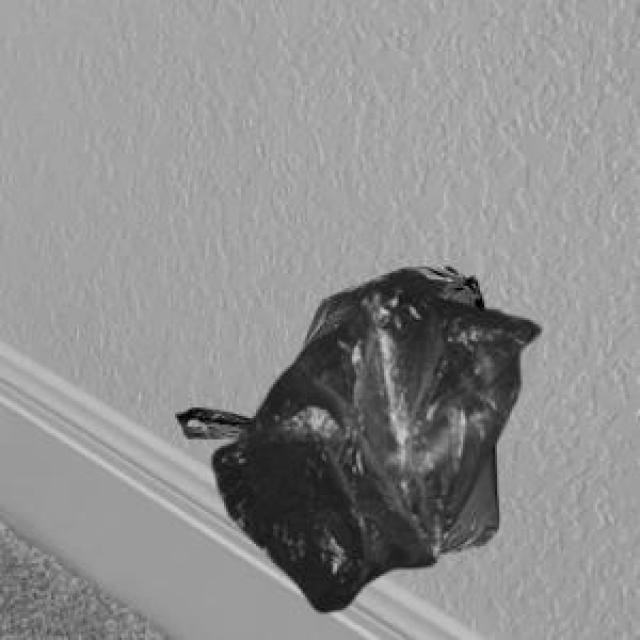miscellaneous trash: (173, 262, 495, 548)
